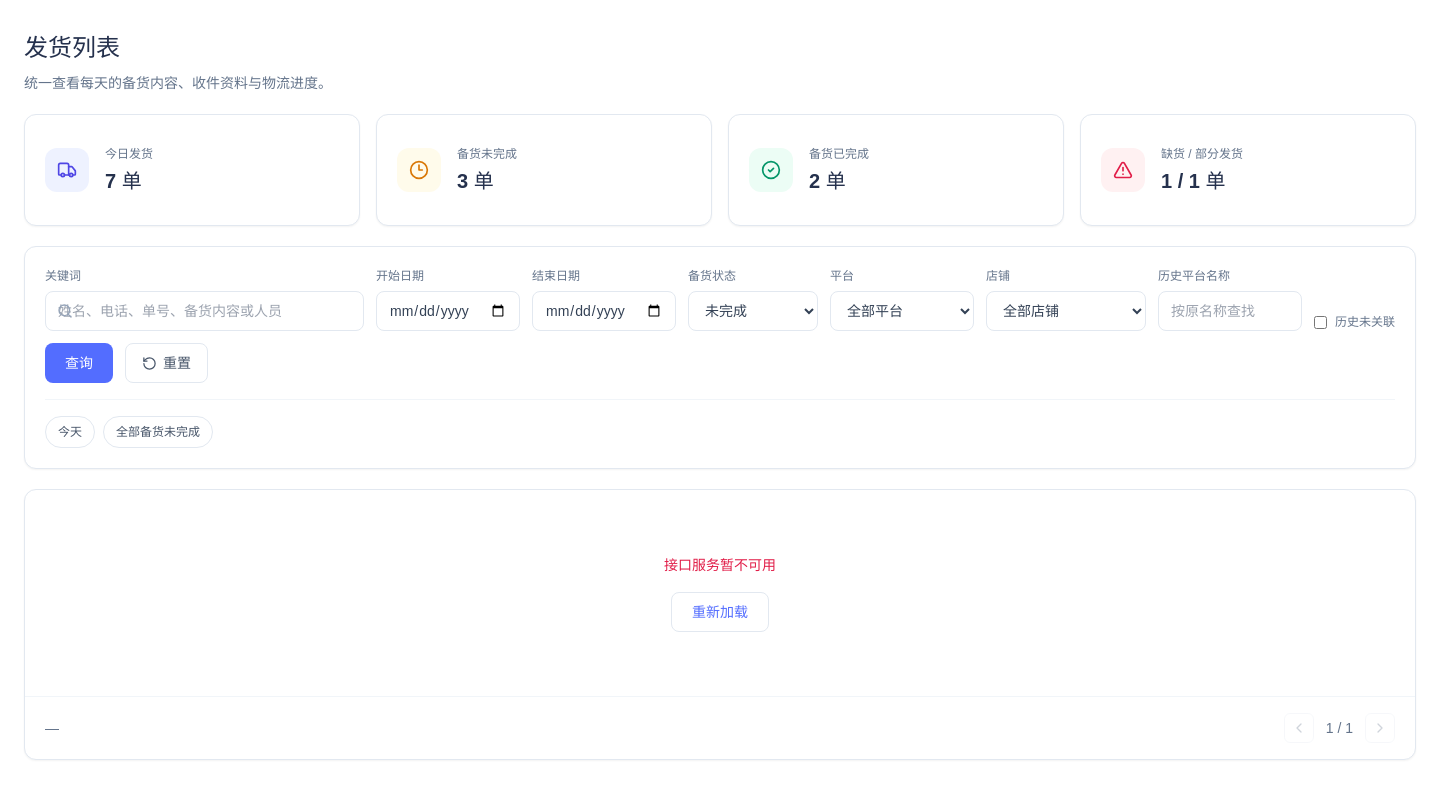
ShipmentListView › shows independent list failures with retry and hides create without permission
Expected: the message with test id "shipment-load-error" shows "接口服务暂不可用", top-left (664, 557), bottom-right (776, 573)
Click the button with test id "shipment-retry".
click(720, 612)  # box top-left (671, 592), bottom-right (769, 632)
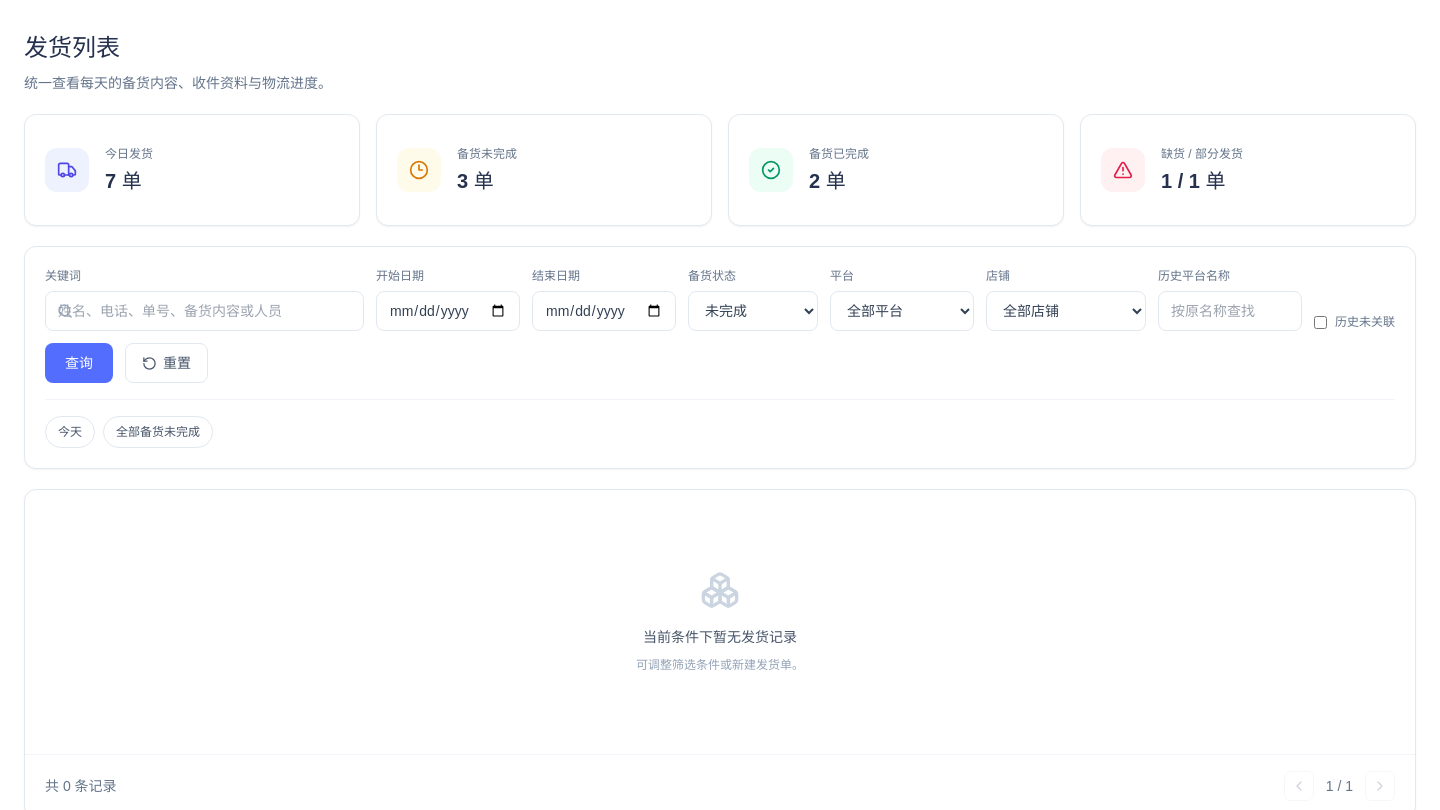
Expected: the text "当前条件下暂无发货记录" is shown, top-left (643, 629), bottom-right (797, 645)
